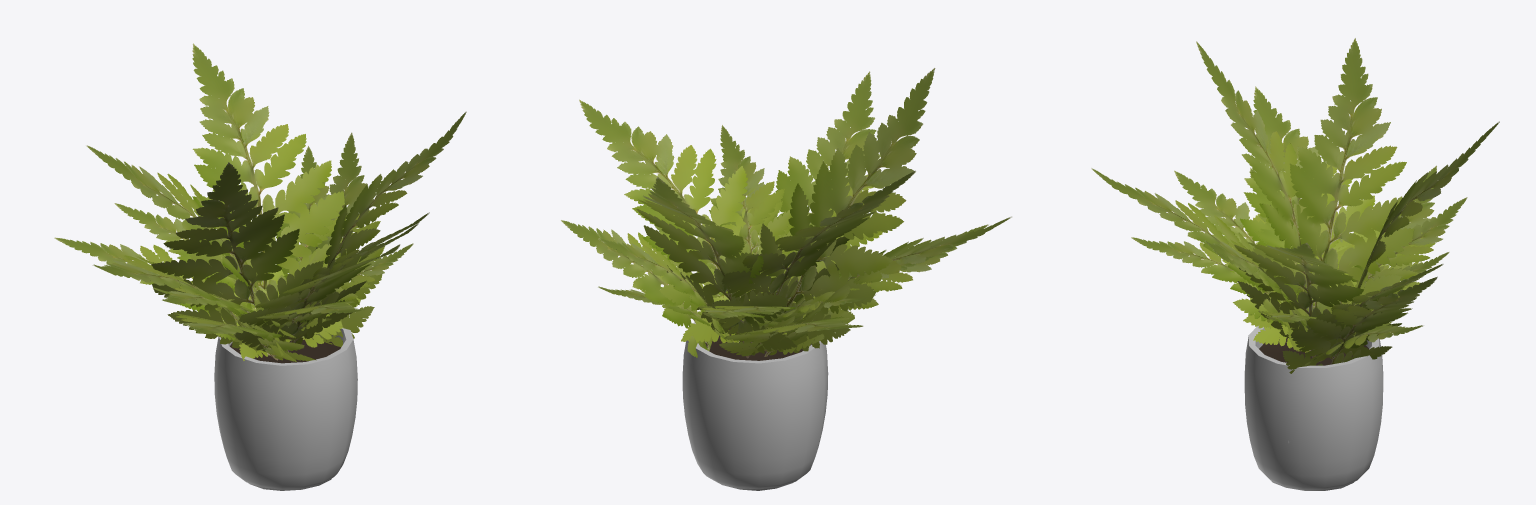
File: Fern Plant w_ Pot.fbx
3 renders of one model, left to right at view 1: azimuth 30°, elevation 25°; view 2: azimuth 150°, elevation 25°; view 3: azimuth 270°, elevation 25°, orthographic. The views are drawn at different scales.
Visible parts, largest first — view 1: Fern Plant w/ Pot; view 2: Fern Plant w/ Pot; view 3: Fern Plant w/ Pot.
Boxes of the visible parts, bbox=[...] form: Fern Plant w/ Pot: bbox=[54, 43, 466, 490]; Fern Plant w/ Pot: bbox=[561, 68, 1011, 490]; Fern Plant w/ Pot: bbox=[1091, 38, 1499, 490].
Bounding box in the file's own units: 65.26 × 56.57 × 56.36.
2 materials, 2 textured.
